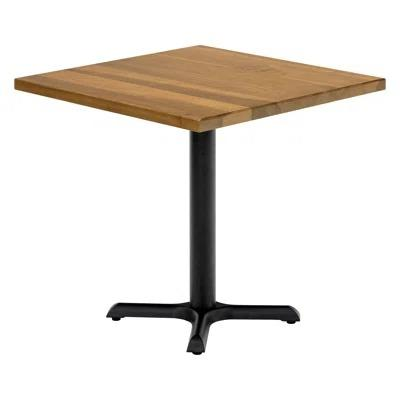Clean Table: (0, 0, 400, 184)
